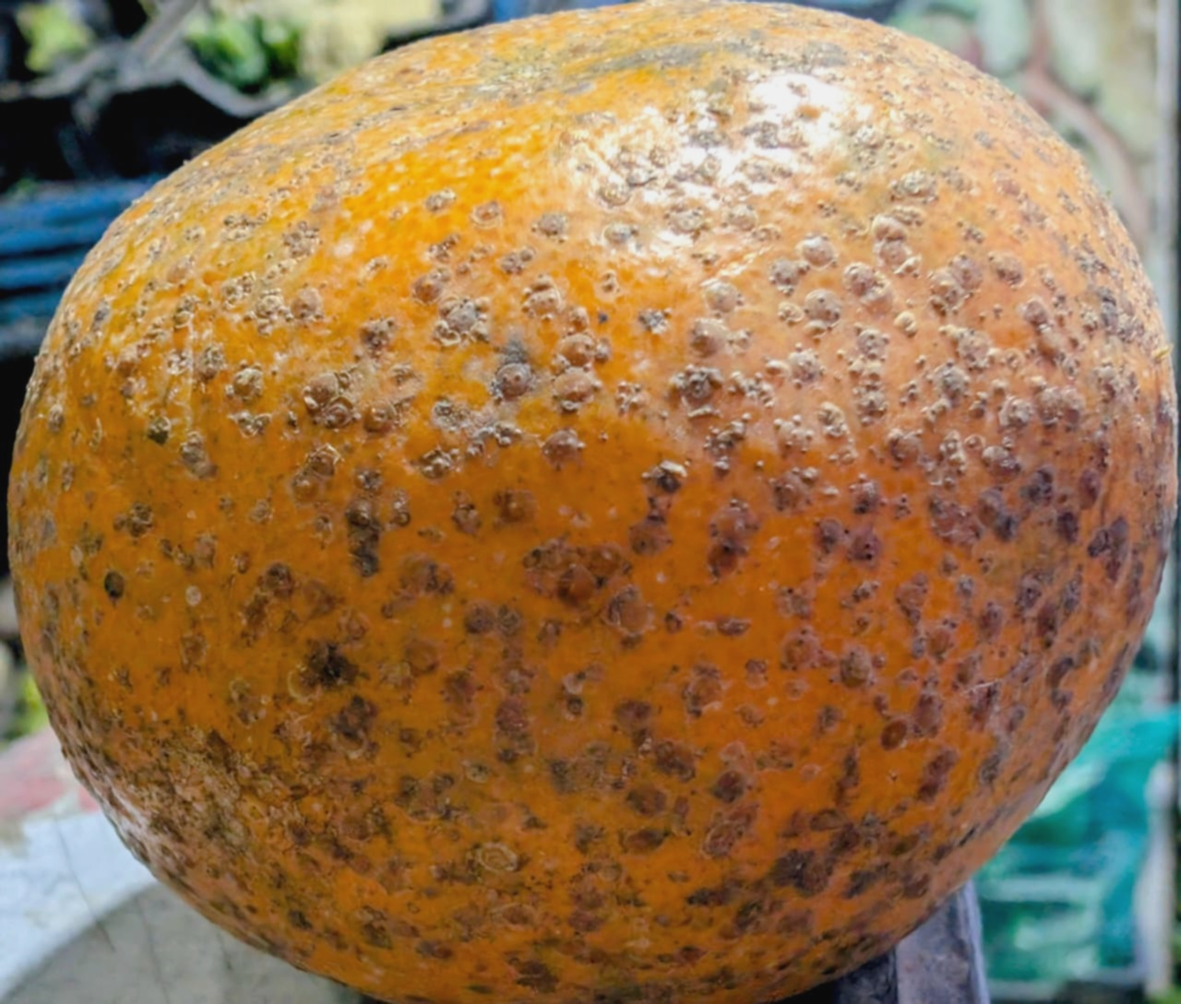orange: (46, 249, 956, 896)
